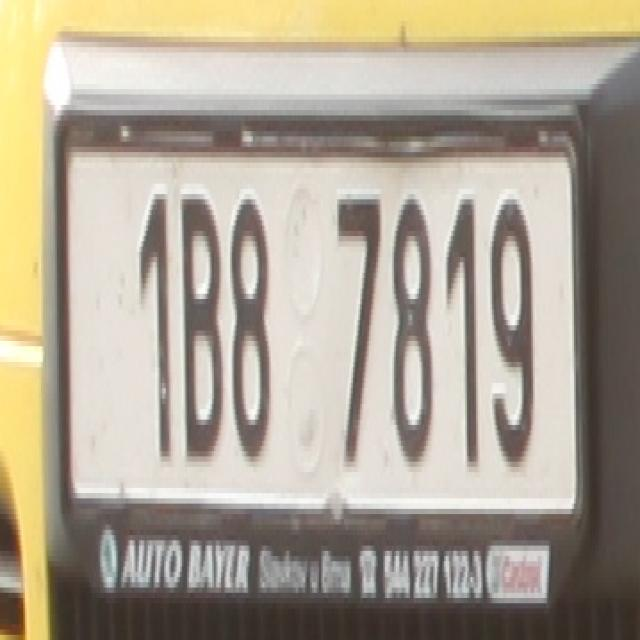1: (440, 188, 480, 462), (136, 184, 171, 451)
7: (335, 183, 382, 467)
8: (390, 199, 435, 451), (228, 188, 269, 462)
9: (489, 194, 533, 456)
B: (177, 178, 221, 456)
